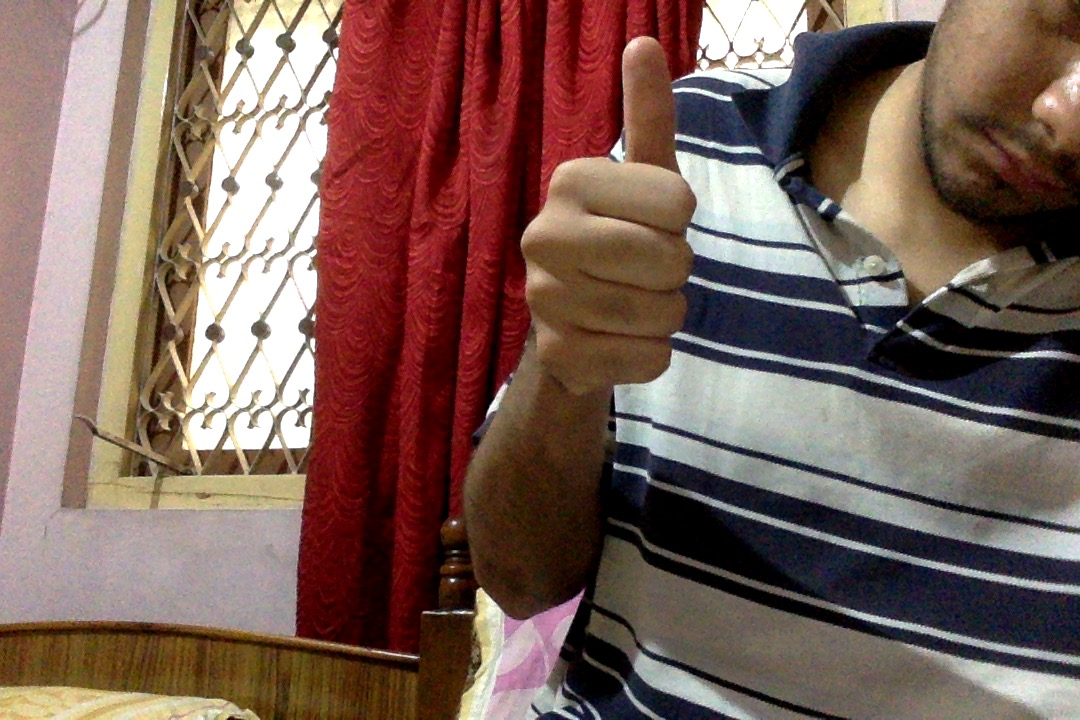hand: (443, 1, 744, 423)
